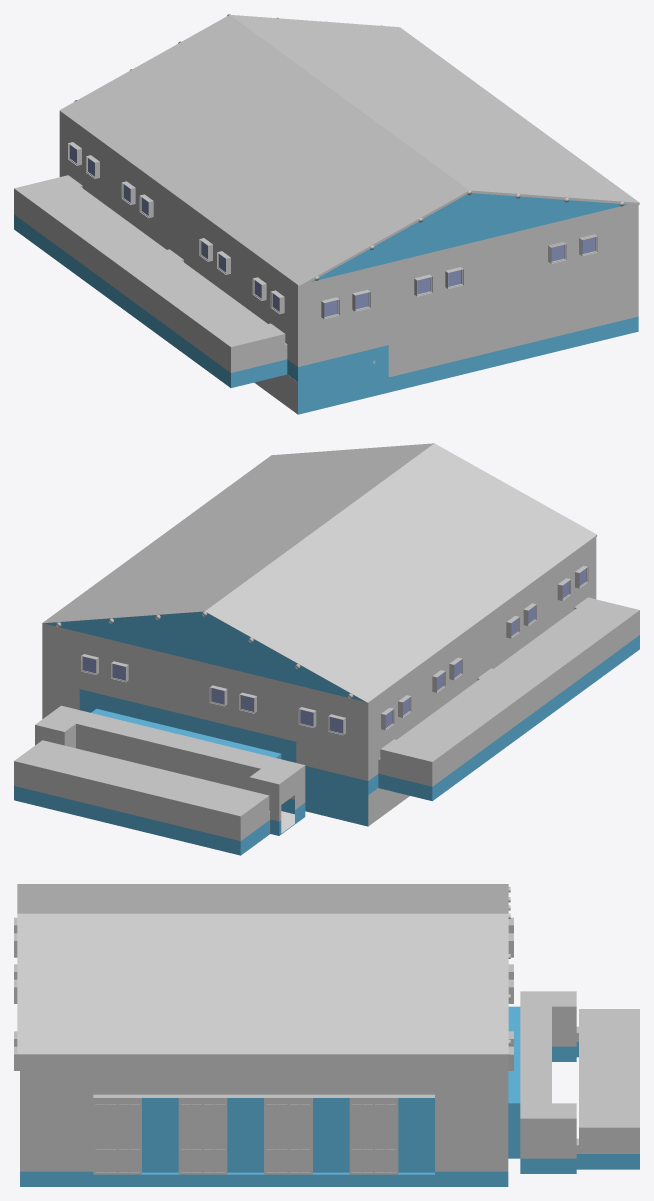
File: interior.fbx
3 renders of one model, top to bottom at view 1: azimuth 30°, elevation 25°; view 2: azimuth 150°, elevation 25°; view 3: azimuth 270°, elevation 25°, orthographic. The views are drawn at different scales.
Visible parts, largest first — view 1: wall, Cylinder, windows; view 2: wall, Cylinder, windows; view 3: wall, wall.001, Cylinder.
Part boxes in pixels (x1,y1,x2,y2): wall: [14, 15, 638, 414]; Cylinder: [59, 14, 639, 287]; windows: [69, 144, 597, 318]; wall: [14, 444, 639, 855]; Cylinder: [42, 443, 597, 702]; windows: [82, 567, 587, 734]; wall: [14, 884, 639, 1186]; wall.001: [93, 1098, 398, 1174]; Cylinder: [17, 884, 510, 1055].
Bounding box in the file's own units: 39.06 × 18.96 × 51.29.
